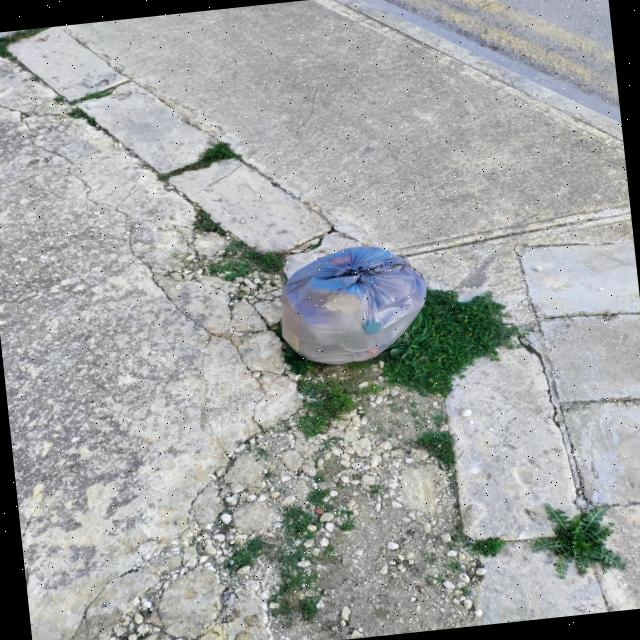Recyclable Material: (272, 238, 437, 372)
